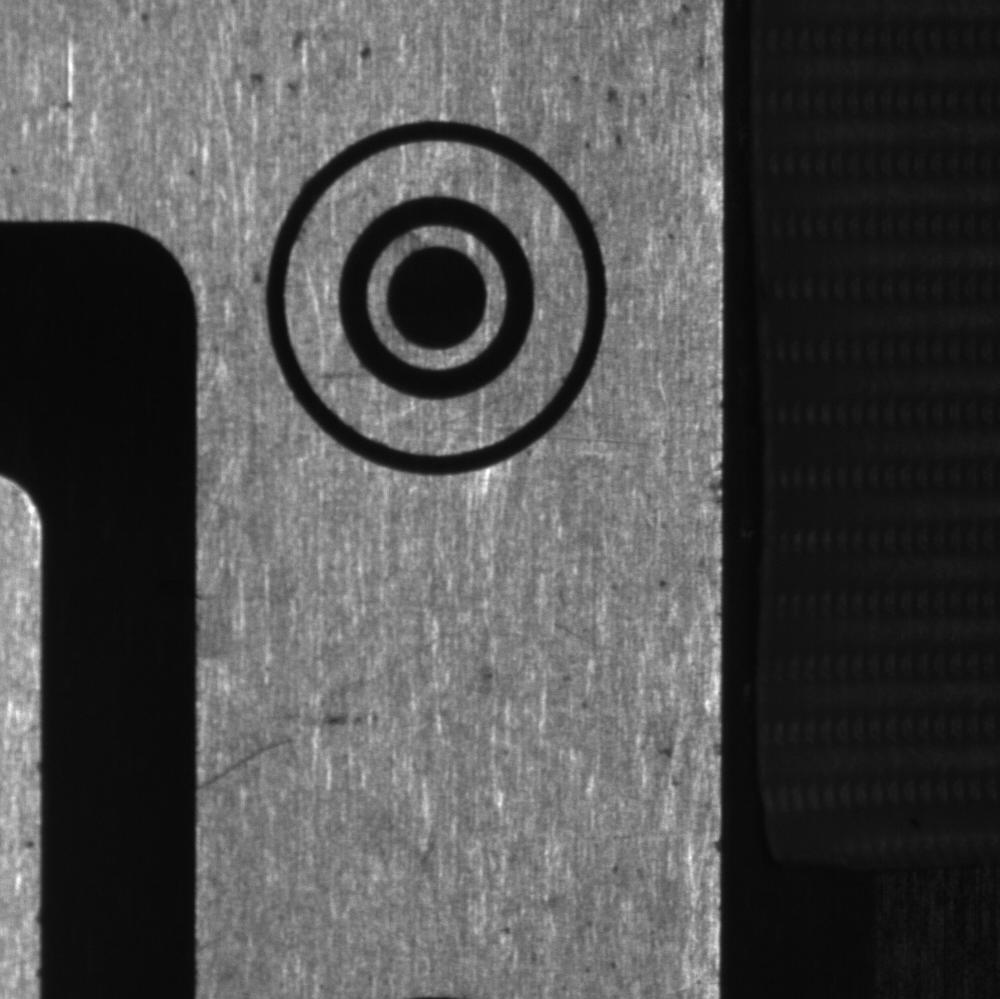Etching: (220, 27, 409, 105), (558, 54, 691, 161), (703, 388, 724, 575)
Scar: (330, 616, 454, 702), (196, 714, 304, 801), (50, 20, 101, 174), (555, 418, 679, 457)
